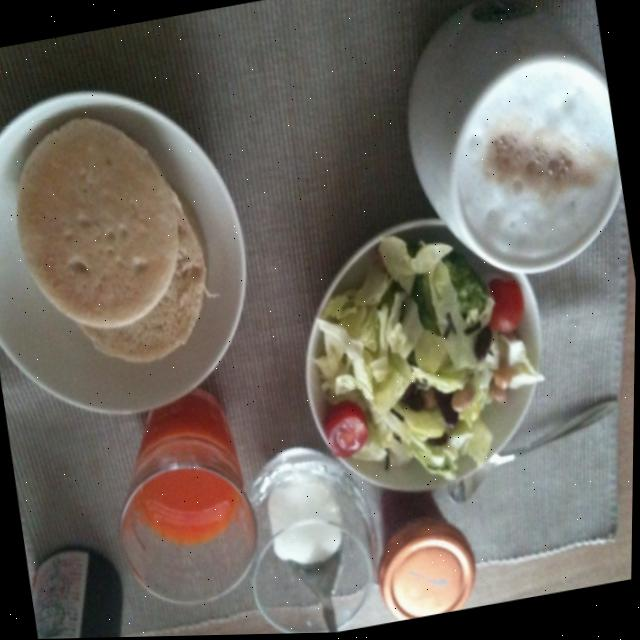蔬菜料理: (283, 192, 566, 512)
面包点心: (0, 69, 282, 430)
